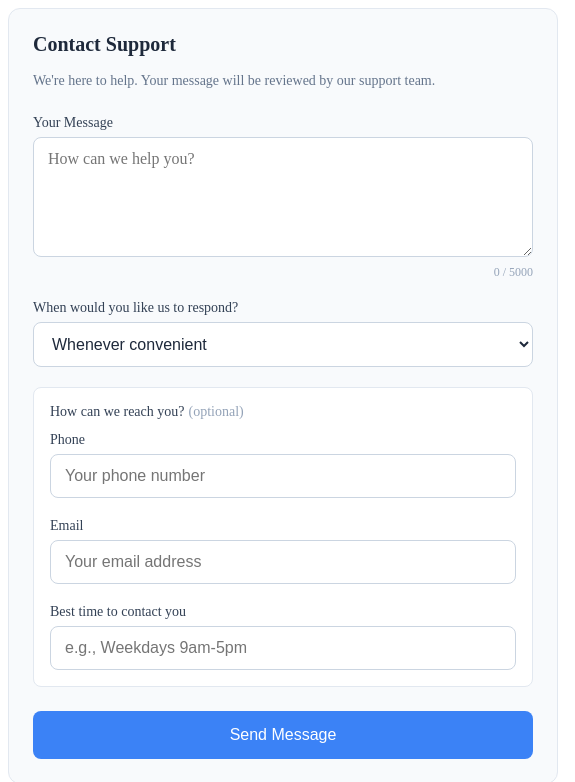
Test case: SafetyContactForm › Form validation › should show error for invalid email format
Type "Test message" into the text box labelled "Your Message". click: (283, 197)
box: [33, 137, 533, 257]
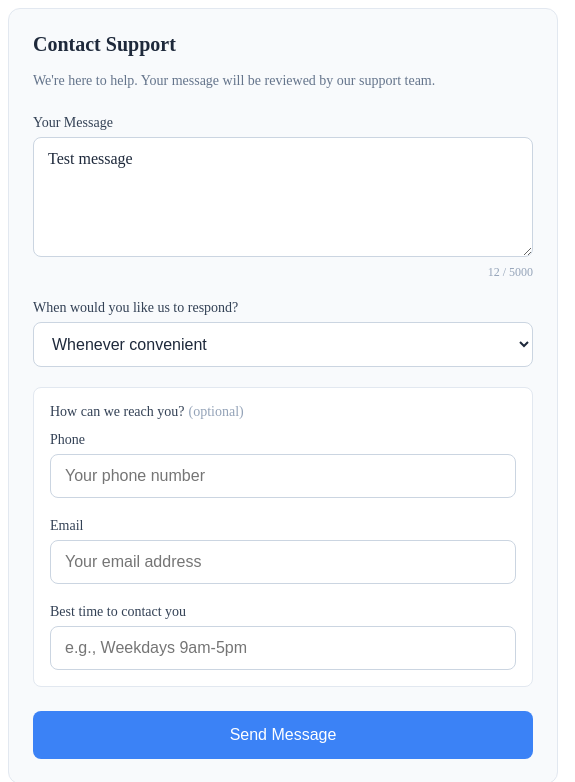
Type "invalid-email" into the field labelled "Email". click: (283, 562)
box: [50, 540, 516, 584]
(page scrolled)
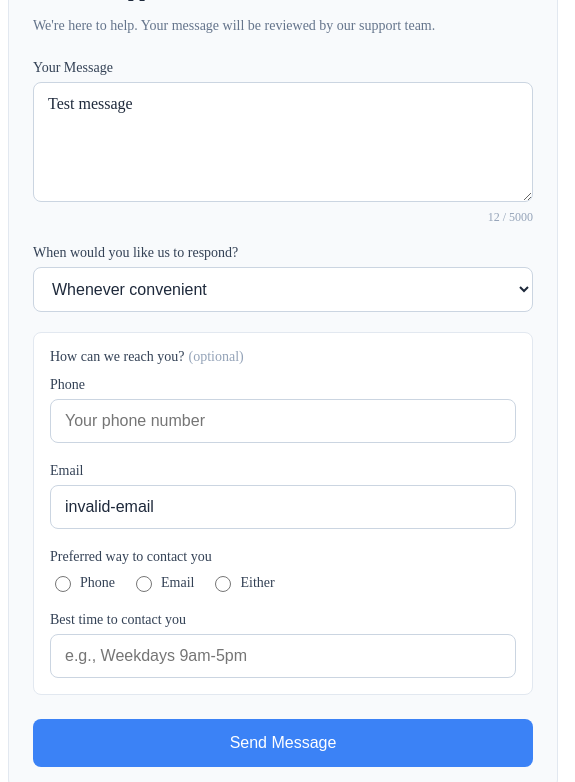
Click the button "Send Message". click: (283, 743)
box: [33, 719, 533, 767]
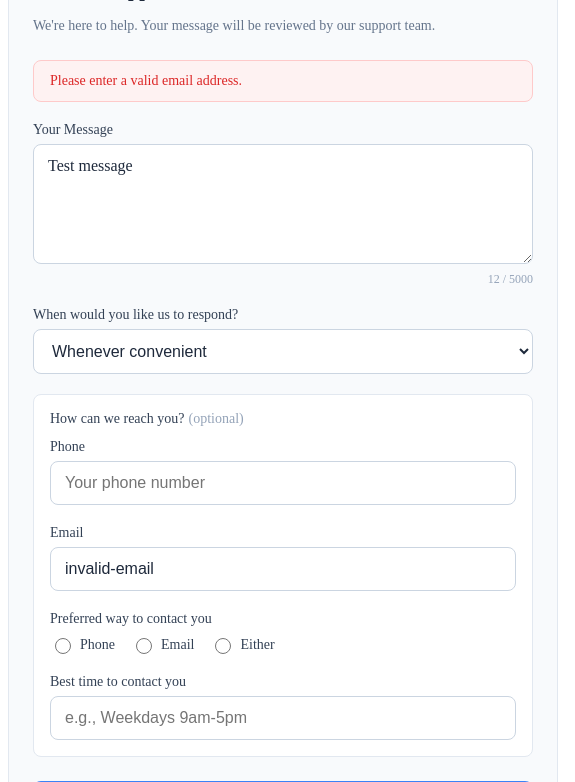
Check: the message shows "valid email", box [50, 73, 242, 88]
